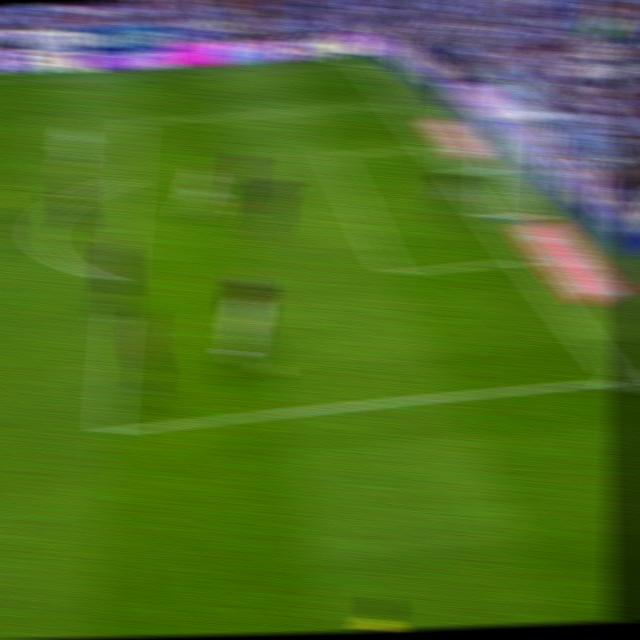bigarea_bottom_inner: (379, 256, 405, 286)
bigarea_top_outter: (383, 95, 404, 109)
bottom_arc_area_intersection: (604, 363, 634, 395)
corner: (347, 56, 372, 68)
smallarea_bottom_outter: (509, 247, 533, 271)
smallarea_top_outter: (418, 136, 440, 154)
